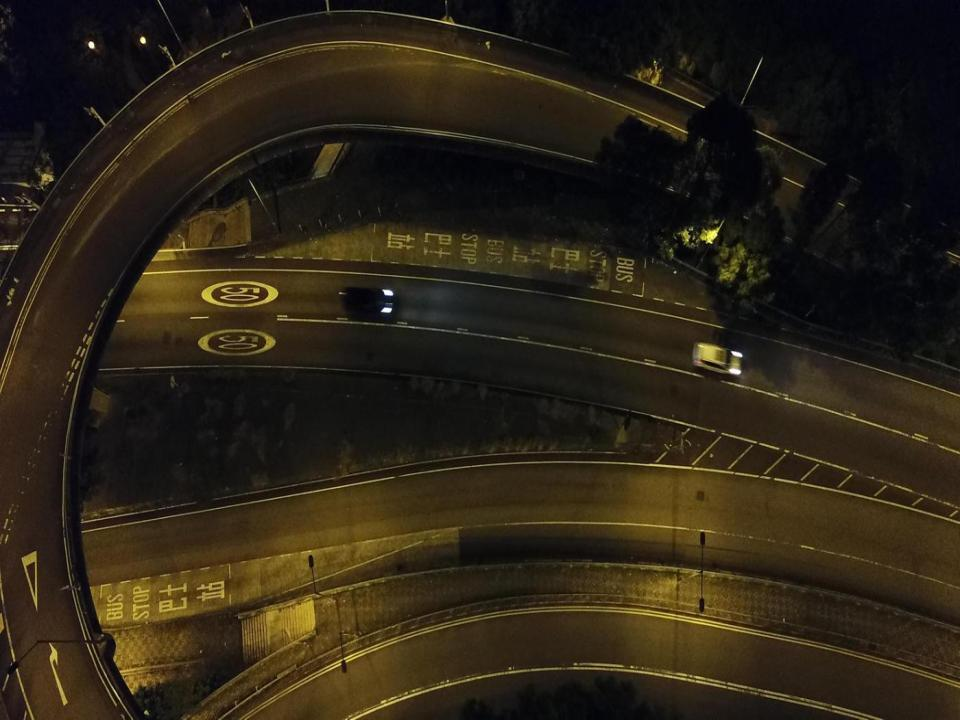car: (691, 339, 745, 376), (343, 285, 394, 315)
